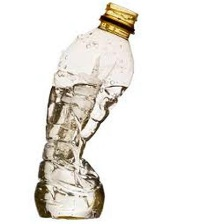bottle: (29, 0, 160, 223)
